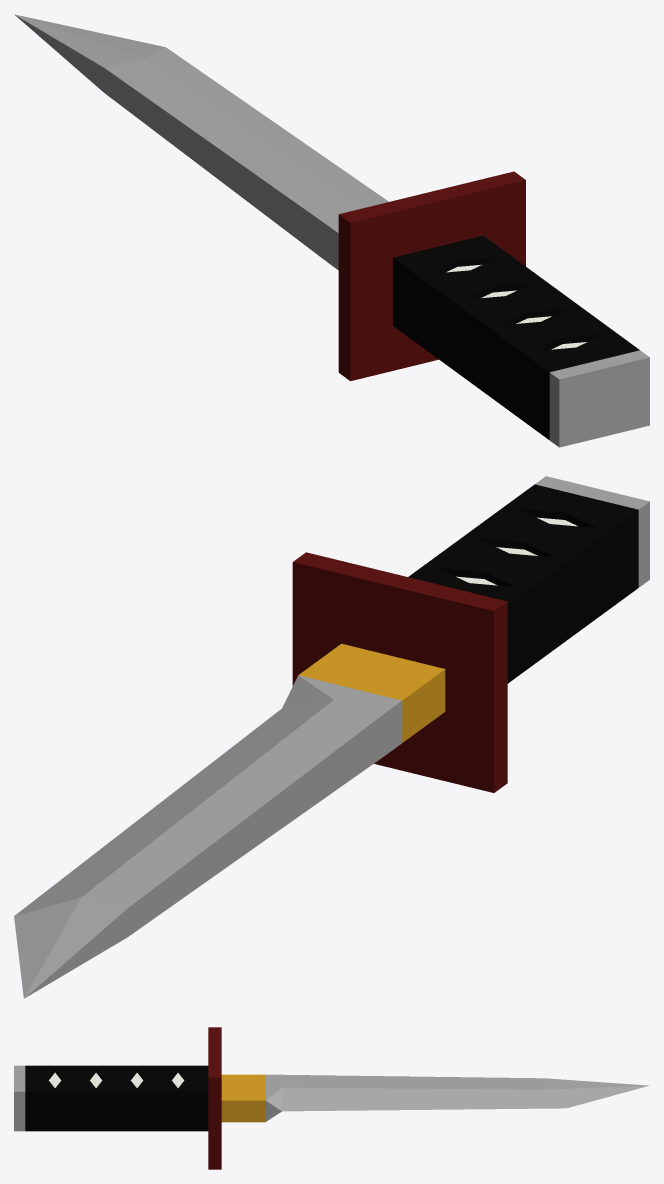
Rendered from Tanto - Textured Low Poly Asian Weapon Pack by Kickin It Studios.fbx.
3 renders of one model, top to bottom at view 1: azimuth 30°, elevation 25°; view 2: azimuth 150°, elevation 25°; view 3: azimuth 270°, elevation 25°, orthographic. The views are drawn at different scales.
Visible parts, largest first — view 1: Tanto; view 2: Tanto; view 3: Tanto.
Part boxes in pixels (<box>): Tanto: <box>14,14,649,447</box>; Tanto: <box>14,476,649,998</box>; Tanto: <box>14,1027,648,1169</box>.
Size of the model in its own units: 40.3 by 34.77 by 217.
